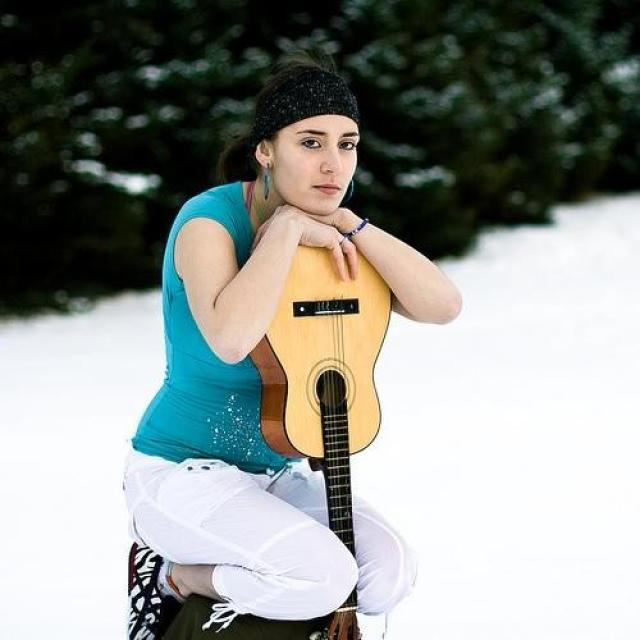guitar: (250, 219, 398, 640)
